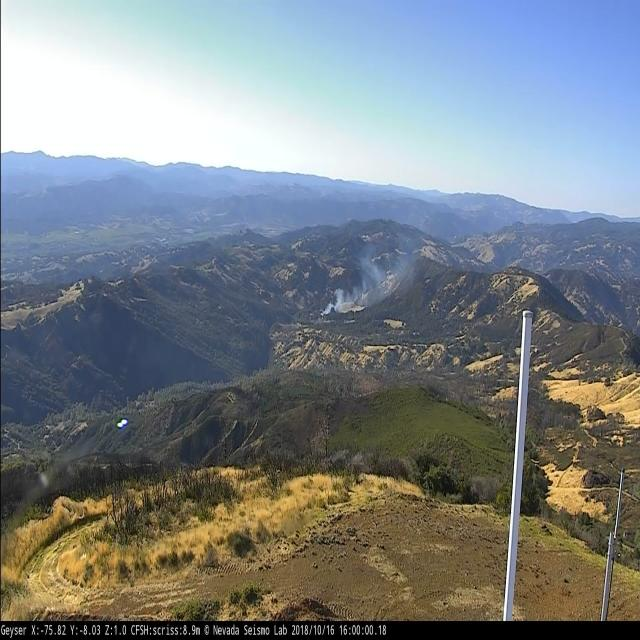smoke: (324, 247, 384, 314)
